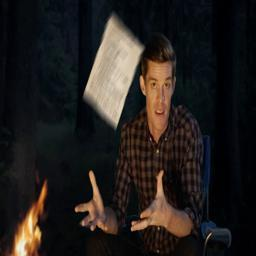fire: (11, 180, 47, 256)
